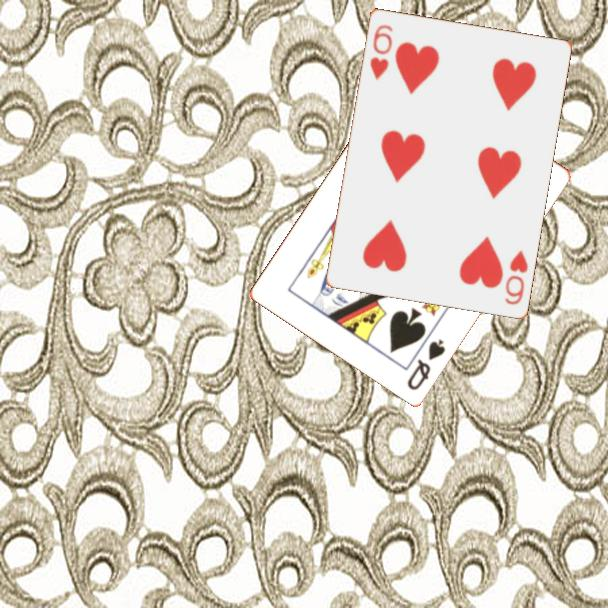h06: (501, 246, 531, 307), (366, 21, 395, 83)
s12: (403, 335, 448, 393)
